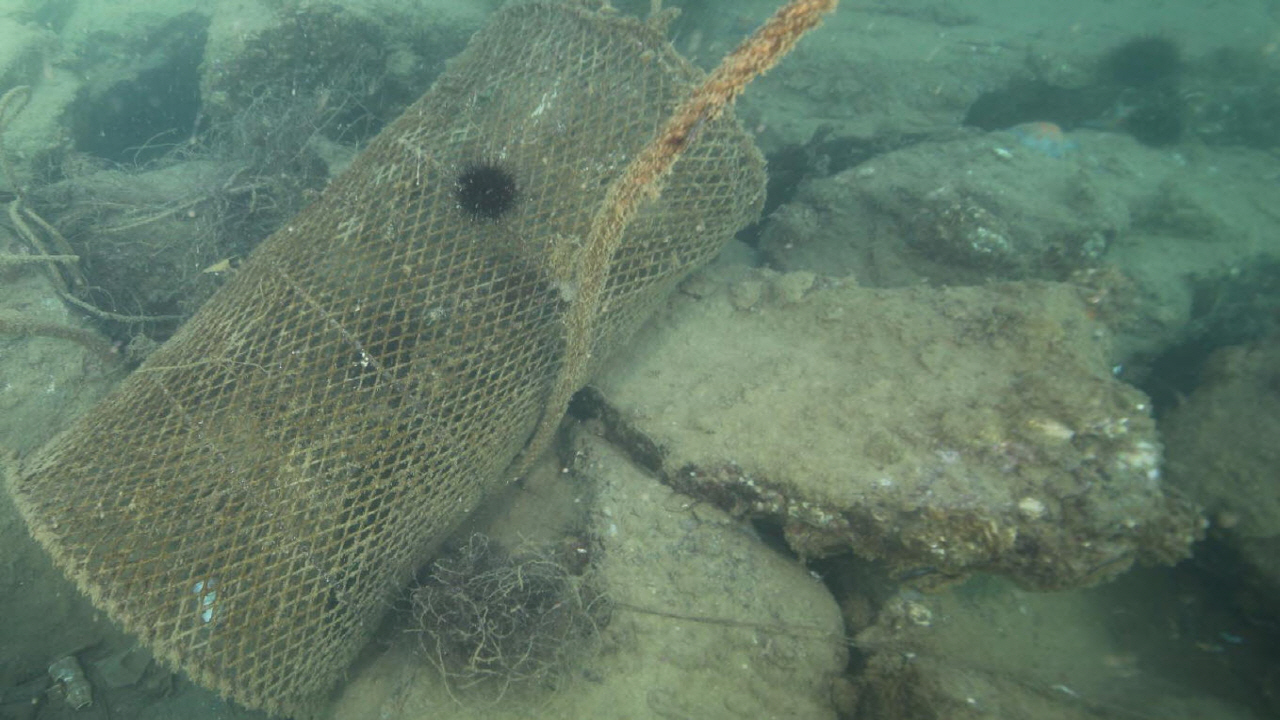spring fish trap: (0, 0, 769, 720)
